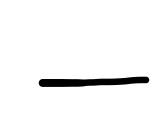minus: (39, 75, 150, 87)
